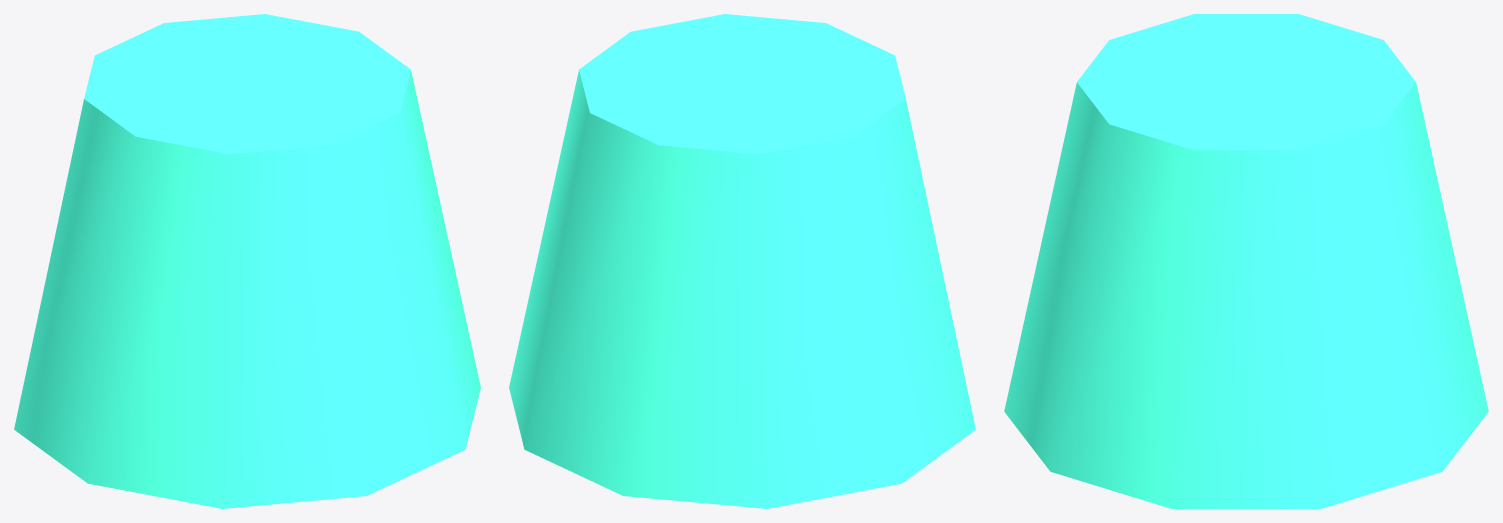
File: sentry.glb
3 renders of one model, left to right at view 1: azimuth 30°, elevation 25°; view 2: azimuth 150°, elevation 25°; view 3: azimuth 270°, elevation 25°, orthographic.
Parts seen in each view (by area): view 1: sentry; view 2: sentry; view 3: sentry.
Part boxes in pixels (<box>): sentry: <box>14,14,480,508</box>; sentry: <box>509,14,975,508</box>; sentry: <box>1004,14,1488,508</box>.
Bounding box in the file's own units: 1.14 × 0.9 × 1.2.
